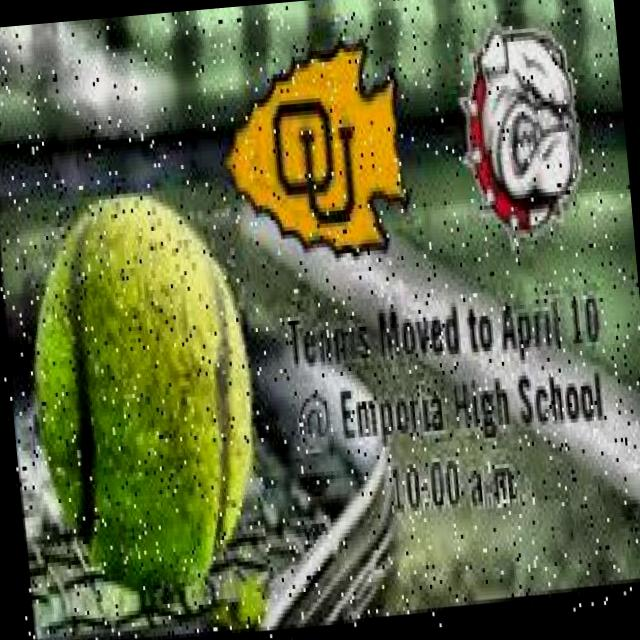Tennis Ball: (4, 173, 279, 632)
